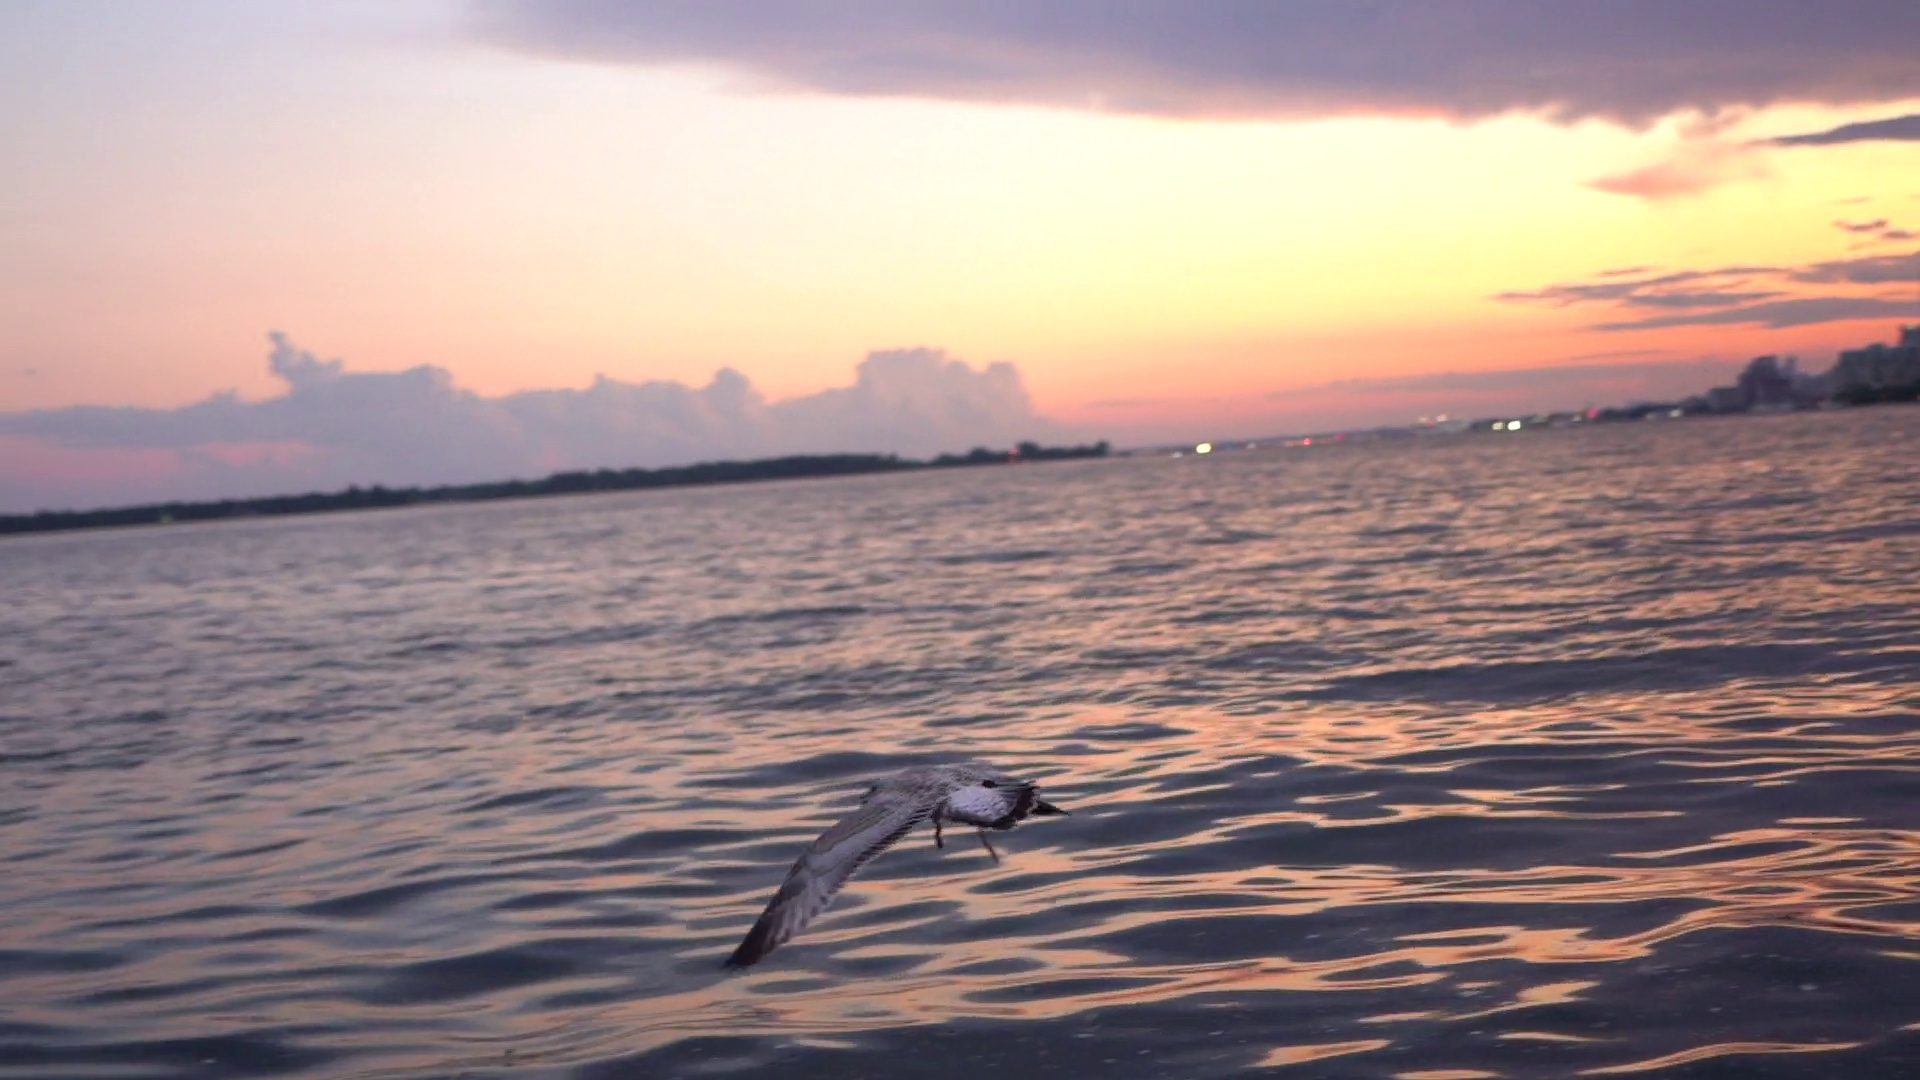bird: (717, 766, 1069, 971)
